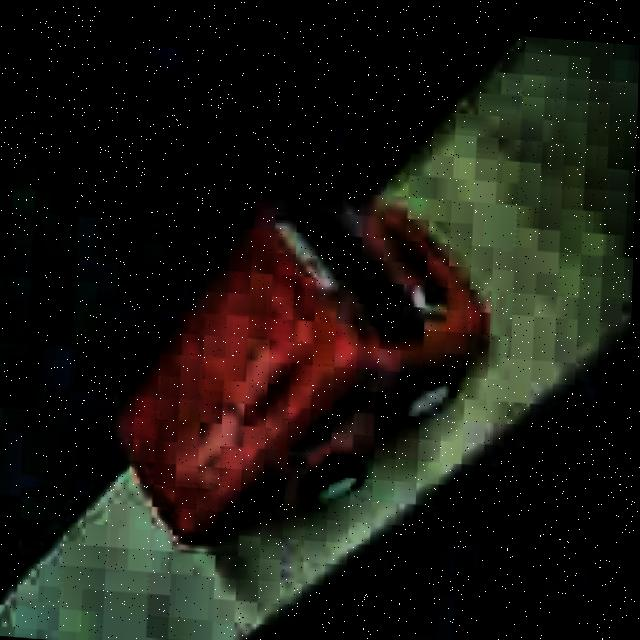bus: (107, 182, 496, 568)
